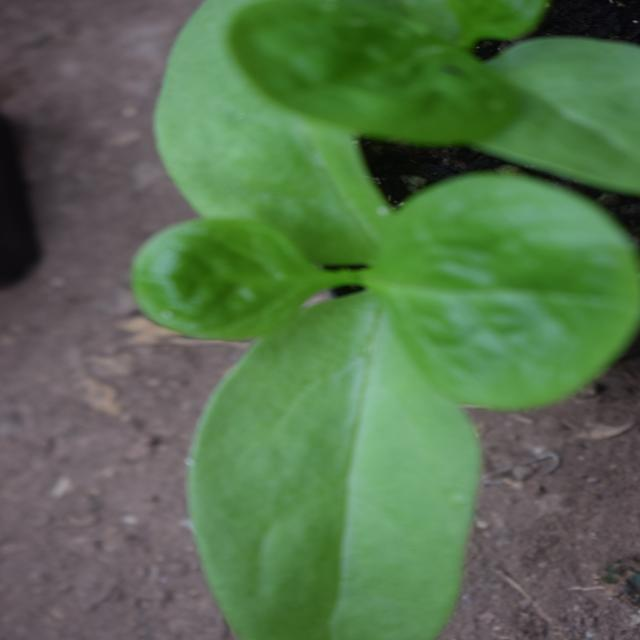Ceylon spinach: (0, 141, 580, 601)
